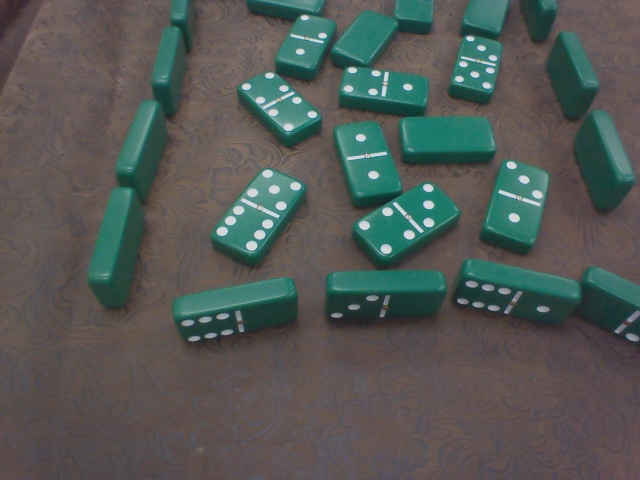A: (395, 107, 498, 168), (330, 5, 394, 67), (387, 1, 441, 35), (460, 1, 511, 36)
B: (211, 162, 303, 263), (359, 175, 459, 258), (233, 67, 325, 147), (488, 150, 554, 254), (333, 113, 406, 201), (340, 59, 433, 118), (447, 33, 507, 112), (274, 12, 333, 78)
C: (92, 188, 141, 308), (112, 100, 170, 201), (146, 27, 191, 114), (164, 1, 202, 37)
D: (571, 111, 635, 220), (541, 31, 605, 118), (520, 1, 567, 38)
E: (448, 252, 579, 331), (164, 275, 305, 343), (315, 265, 450, 329), (573, 258, 640, 348)
